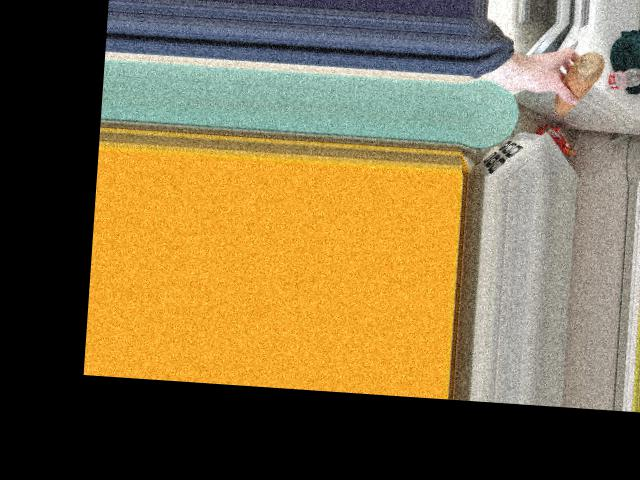sweet_potato: (556, 50, 606, 118)
